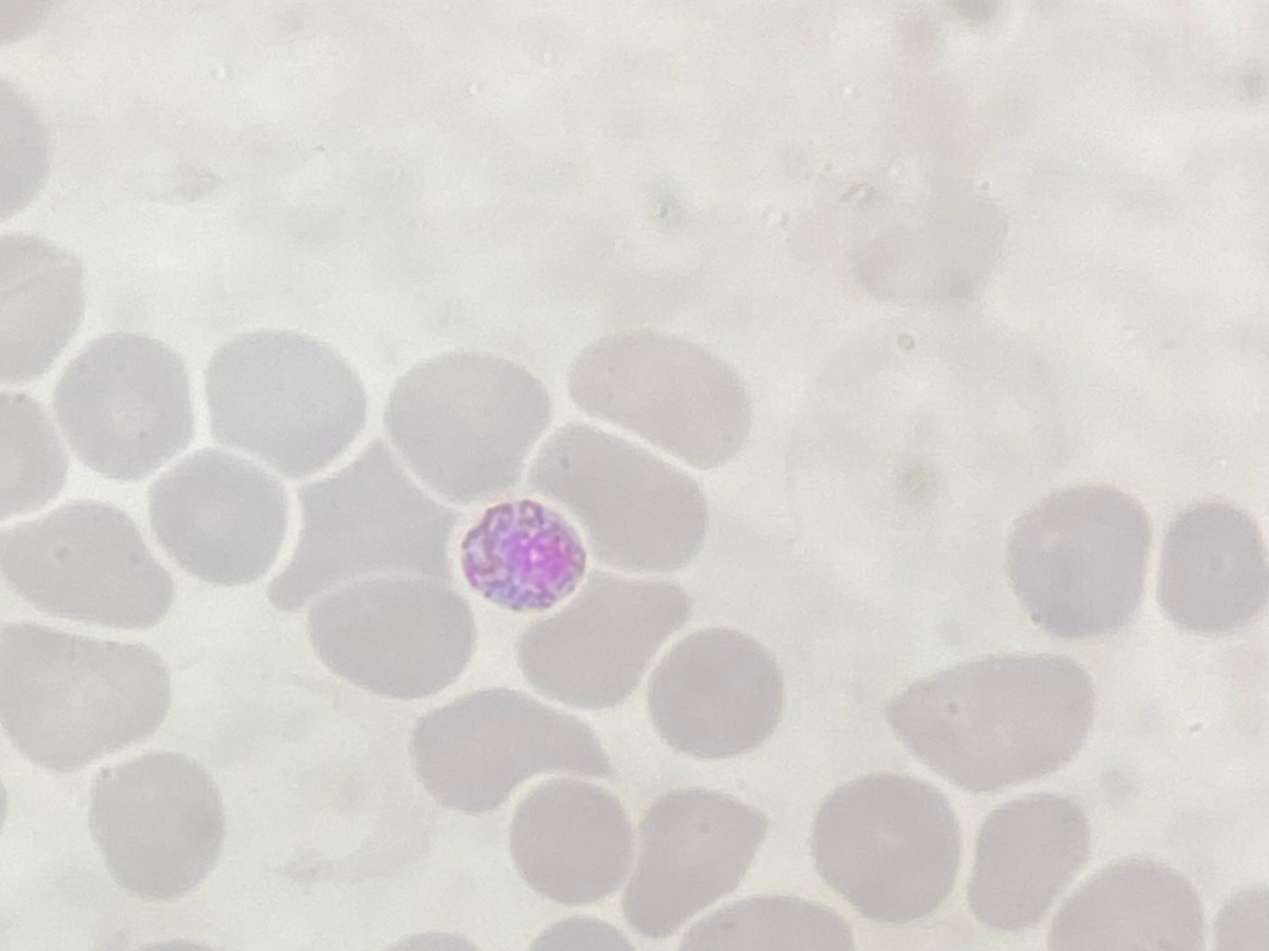Infected: (452, 495, 585, 609)
Uninfected: (886, 648, 1091, 802), (269, 435, 457, 600), (527, 421, 702, 578), (0, 622, 173, 777), (388, 344, 546, 506), (203, 329, 370, 481), (419, 688, 608, 815), (564, 327, 749, 456), (817, 770, 963, 931), (619, 781, 770, 932), (520, 578, 690, 711), (1007, 481, 1147, 642), (48, 331, 195, 481), (308, 562, 476, 693), (0, 499, 166, 625), (152, 441, 291, 589), (88, 745, 223, 896), (965, 785, 1084, 928), (648, 631, 780, 759), (509, 778, 630, 908), (1154, 501, 1265, 639), (1046, 860, 1200, 951)
